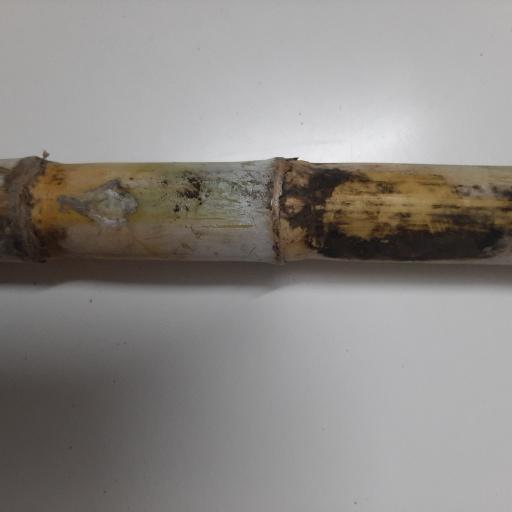Bud: (280, 196, 305, 218)
